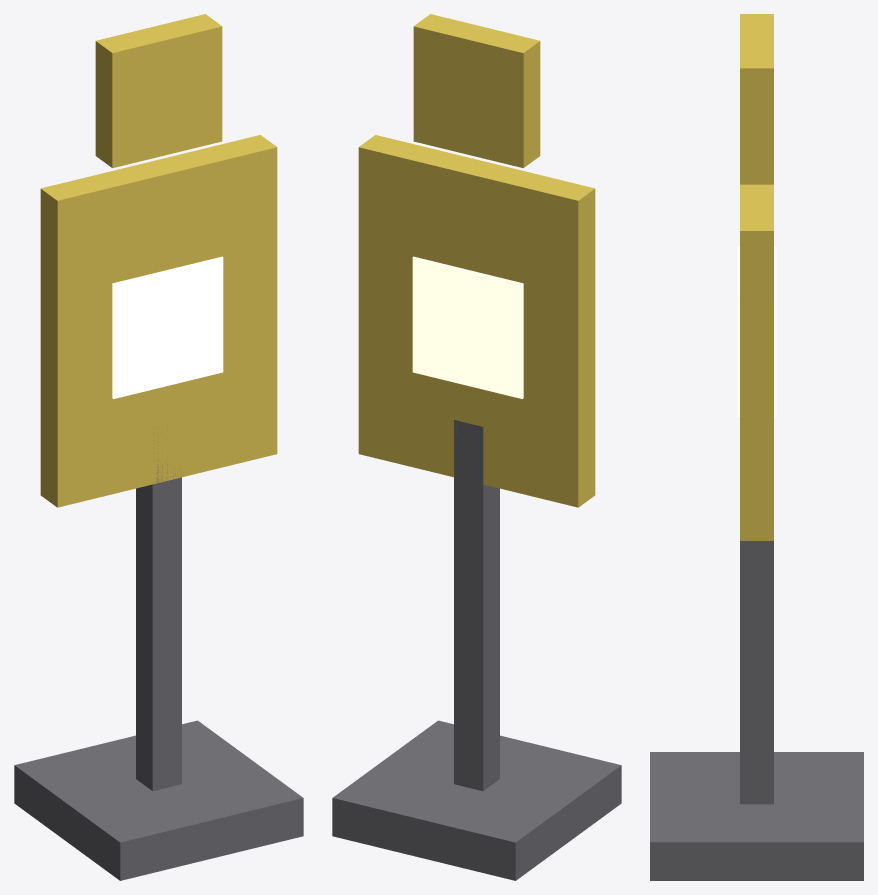
File: TargetDummy.fbx
3 views of the same model, side by side, from view 1: azimuth 30°, elevation 25°; view 2: azimuth 150°, elevation 25°; view 3: azimuth 270°, elevation 25° (orthographic).
Parts seen in each view (by area): view 1: TargetDummy_Mesh; view 2: TargetDummy_Mesh; view 3: TargetDummy_Mesh.
Boxes of the visible parts, x1,y1,x2,y2 form: TargetDummy_Mesh: (14,14,303,880); TargetDummy_Mesh: (332,14,621,880); TargetDummy_Mesh: (650,14,863,880).
Size of the model in its own units: 0.6 by 0.5 by 2.05.
